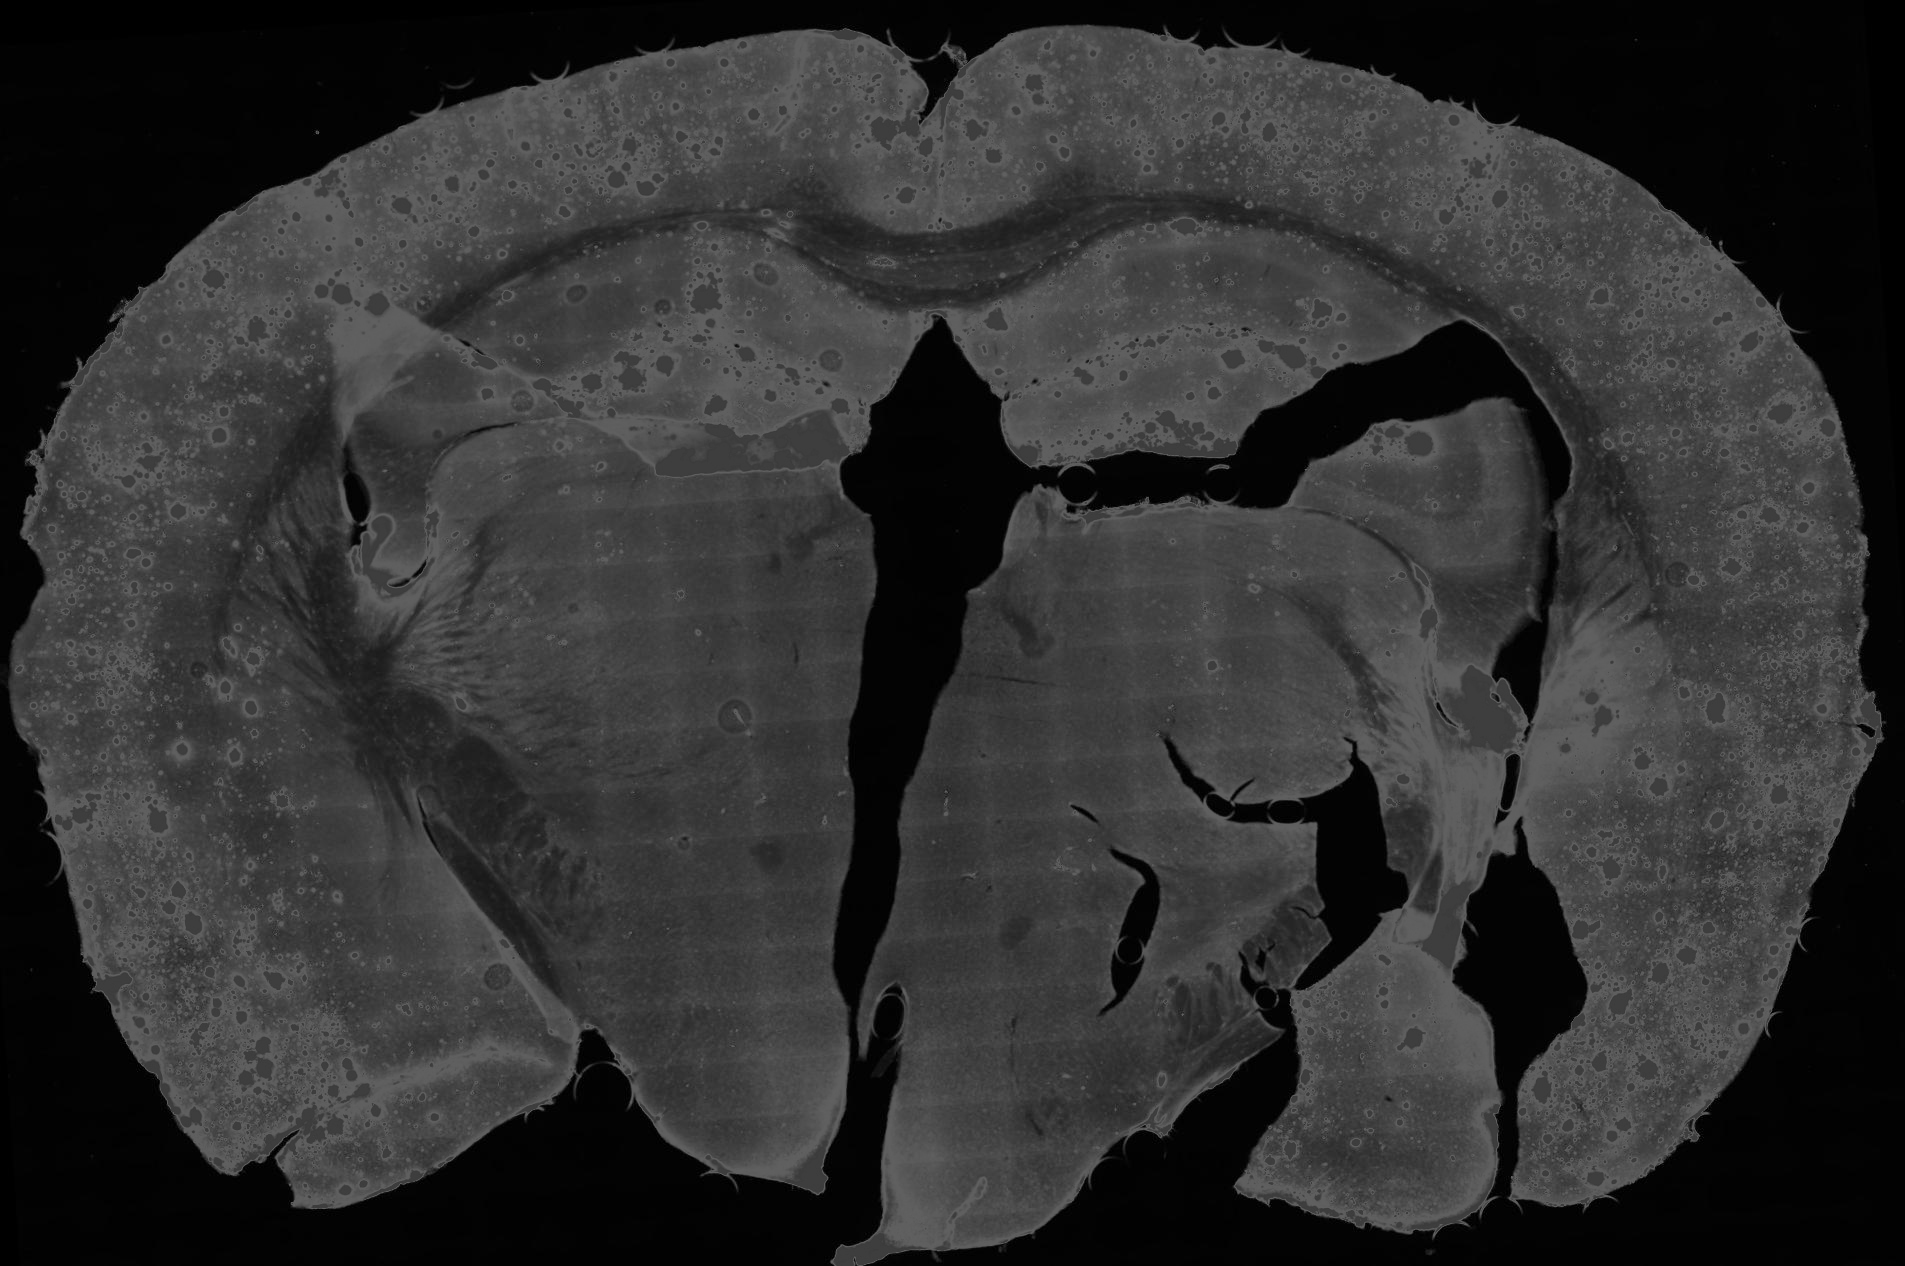Cerebral nuclei: (213, 445, 390, 899), (1523, 480, 1668, 863)
Hippocampal formation: (957, 220, 1531, 571), (353, 225, 931, 452)
Retrosplenial area: (837, 41, 944, 236), (940, 48, 1032, 235)
Somatosensory area: (1369, 95, 1867, 584), (31, 83, 558, 533)
